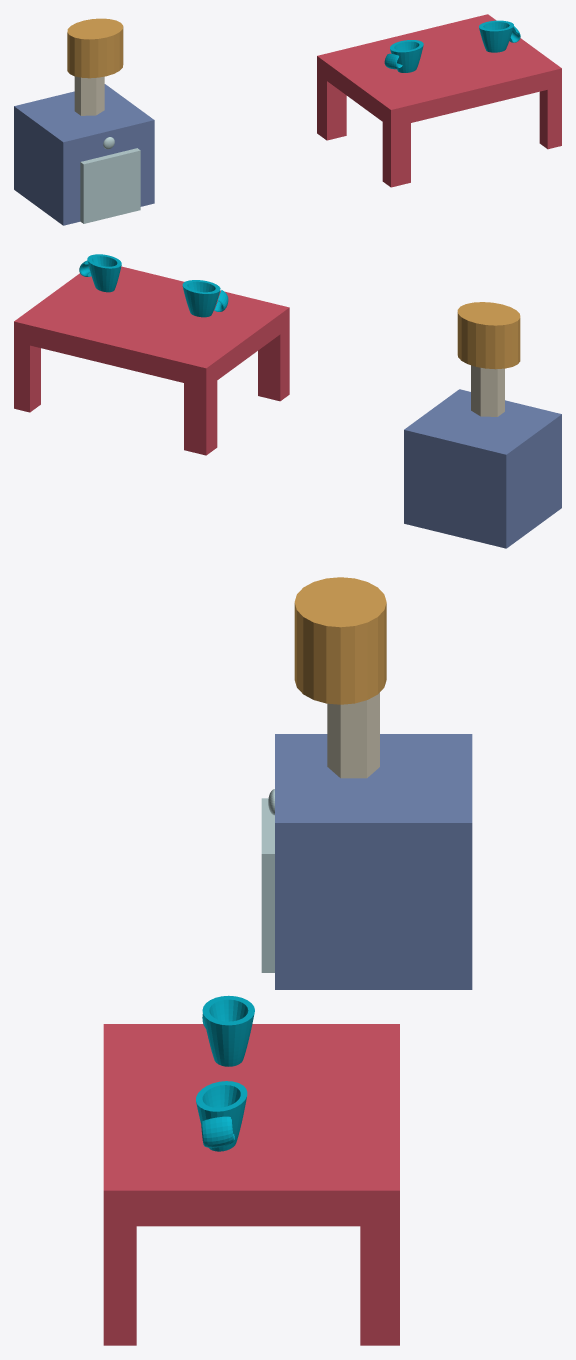
The picture shows the model from 3 angles, top to bottom: view 1: azimuth 30°, elevation 25°; view 2: azimuth 150°, elevation 25°; view 3: azimuth 270°, elevation 25°; orthographic projection. The views are drawn at different scales.
Visible parts, largest first — view 1: Mesh_Mesh_head_geo.001_lambert2SG.001; view 2: Mesh_Mesh_head_geo.001_lambert2SG.001; view 3: Mesh_Mesh_head_geo.001_lambert2SG.001.
Part boxes in pixels (left/top/right/bottom): Mesh_Mesh_head_geo.001_lambert2SG.001: left=14, top=14, right=561, bottom=225; Mesh_Mesh_head_geo.001_lambert2SG.001: left=14, top=254, right=561, bottom=548; Mesh_Mesh_head_geo.001_lambert2SG.001: left=103, top=577, right=472, bottom=1345.
Bounding box in the file's own units: 160 × 58 × 56.
